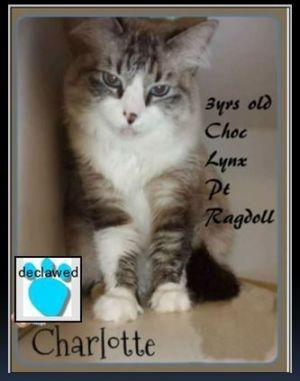ragdoll: (62, 15, 205, 148)
